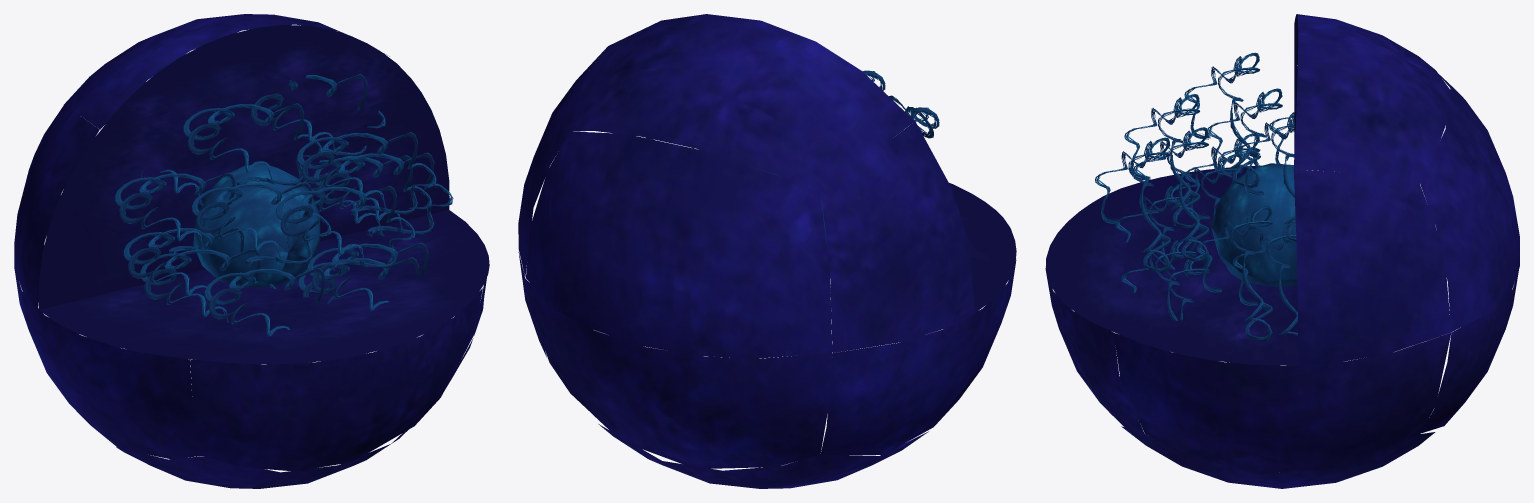
Rendered from nucleus.glb.
The picture shows the model from 3 angles, left to right: view 1: azimuth 30°, elevation 25°; view 2: azimuth 150°, elevation 25°; view 3: azimuth 270°, elevation 25°; orthographic projection. The views are drawn at different scales.
Parts seen in each view (by area): view 1: nucleus; view 2: nucleus; view 3: nucleus.
Boxes of the visible parts, <box> form: nucleus: <box>14,14,489,488</box>; nucleus: <box>518,14,1016,488</box>; nucleus: <box>1045,14,1519,488</box>.
Size of the model in its own units: 1.32 by 1.32 by 1.32.
2 materials, 2 textured.
